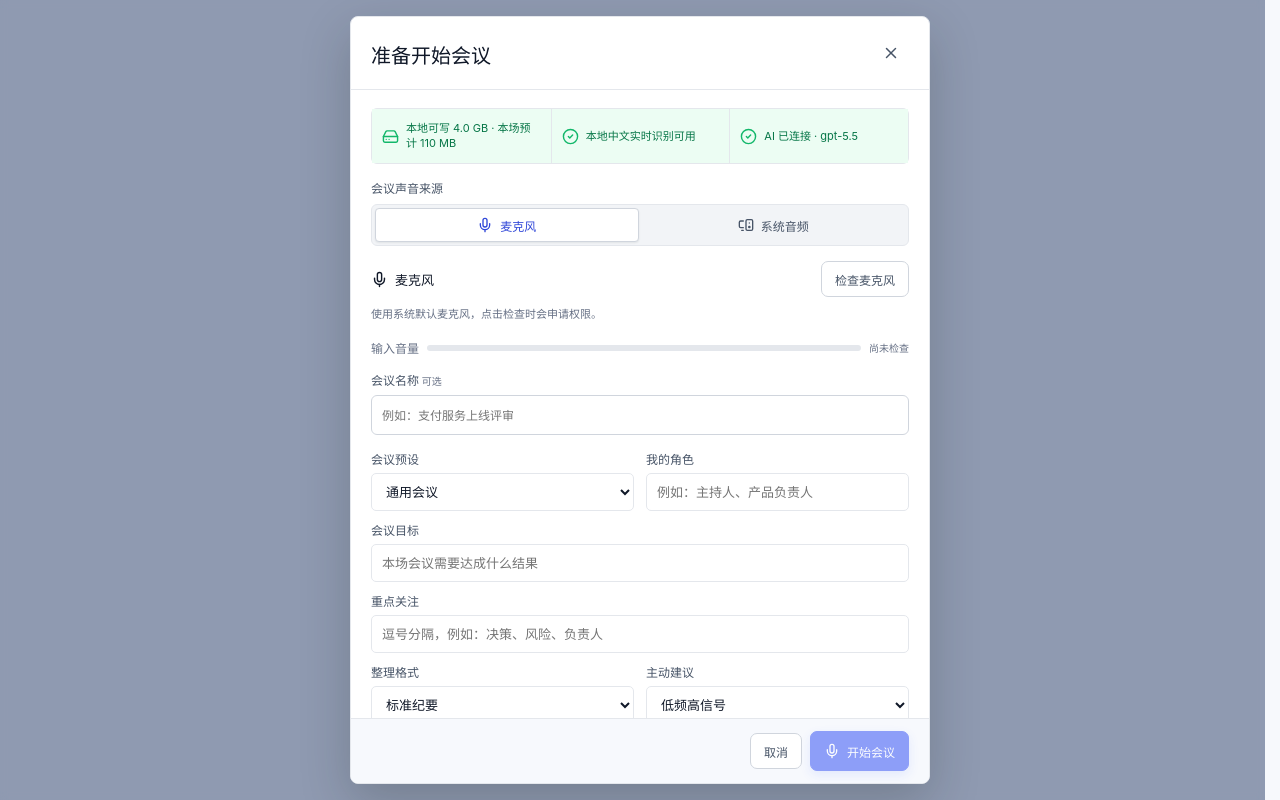
Test: MeetingPreflightDialog › does not treat helper presence as a completed native microphone sample
This screenshot has width=1280, height=800.
Expected: the text "本地中文实时识别可用" is shown, x1=586 y1=129 x2=696 y2=143
Click the button "检查麦克风": (865, 279) x1=821 y1=261 x2=909 y2=297
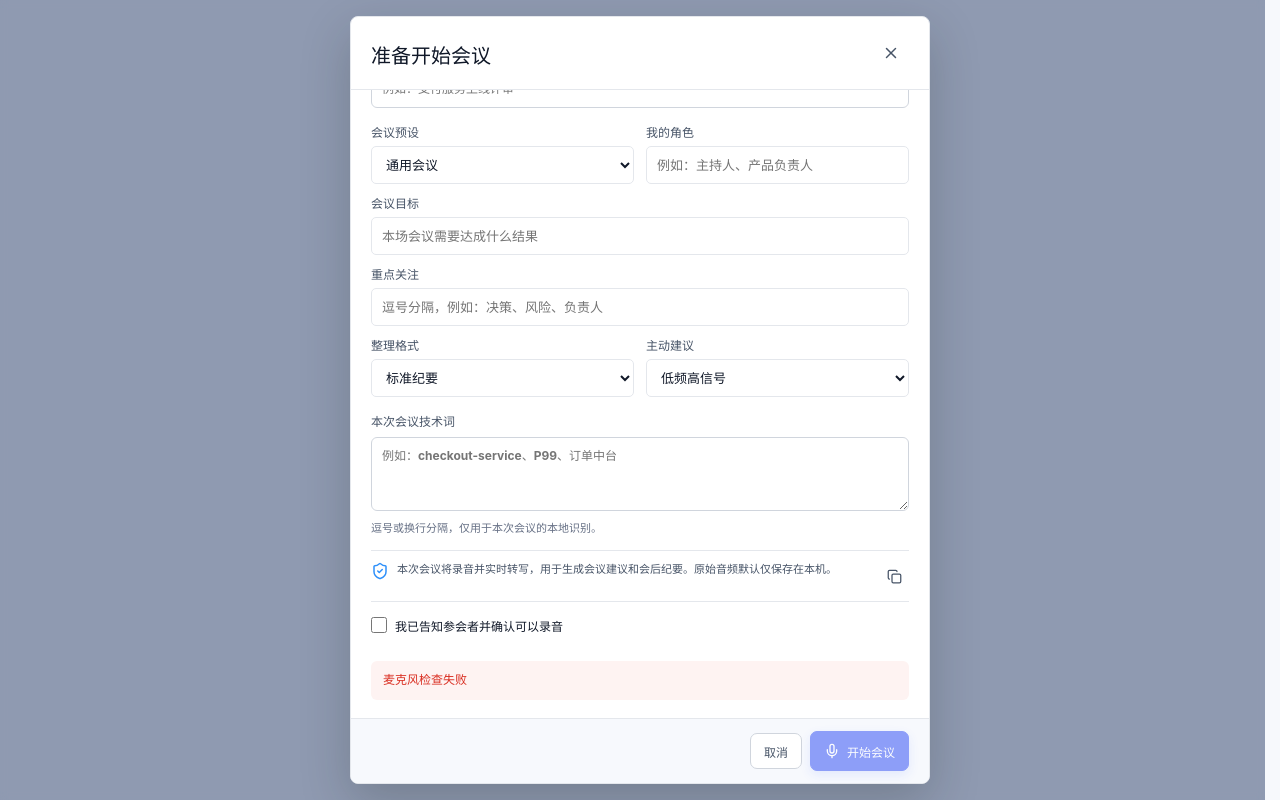
Expected: the message reads "麦克风检查失败", x1=383 y1=672 x2=467 y2=687
